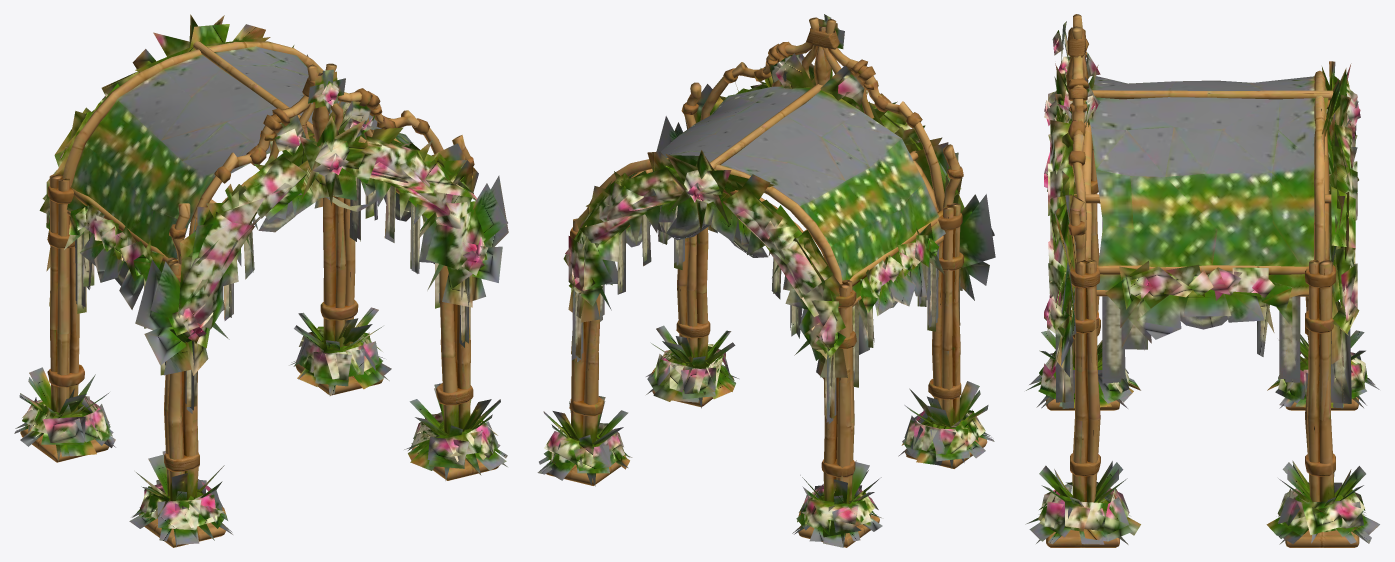
File: santacruzan-arch.glb
The picture shows the model from 3 angles, left to right: view 1: azimuth 30°, elevation 25°; view 2: azimuth 150°, elevation 25°; view 3: azimuth 270°, elevation 25°; orthographic projection. The views are drawn at different scales.
Parts seen in each view (by area): view 1: geometry_0; view 2: geometry_0; view 3: geometry_0.
Boxes of the visible parts, x1,y1,x2,y2 form: geometry_0: [14, 14, 508, 547]; geometry_0: [537, 14, 995, 547]; geometry_0: [1025, 14, 1379, 547].
Bounding box in the file's own units: 0.8565 × 0.9526 × 0.689.
1 material, 1 textured.
